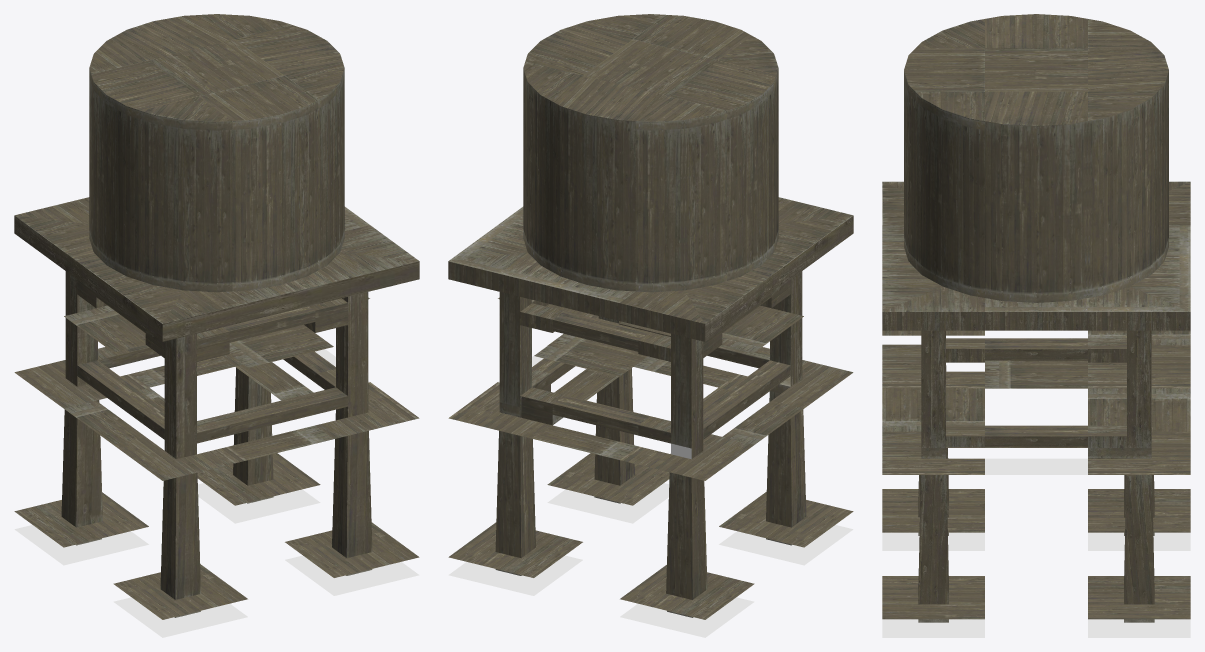
Rendered from watertower.dae.
The picture shows the model from 3 angles, left to right: view 1: azimuth 30°, elevation 25°; view 2: azimuth 150°, elevation 25°; view 3: azimuth 270°, elevation 25°; orthographic projection. The views are drawn at different scales.
Visible parts, largest first — view 1: wall10 (×9), wall23 (×14), wall3 (×3), wall2_25 (×7), floor222 (×4), wall2_13 (×3), wall3_6 (×2); view 2: wall10 (×9), wall23 (×14), wall3 (×3), wall2_25 (×6), floor222 (×4), wall2_13 (×3), wall3_6 (×2); view 3: wall10 (×9), wall23 (×13), wall3 (×4), wall2_25 (×6), wall2_13 (×4), floor222 (×4), wall3_6 (×3).
Boxes of the visible parts, left/top/right/bottom form: wall10 (×9): left=89, top=14, right=344, bottom=292; wall23 (×14): left=14, top=271, right=419, bottom=619; wall3 (×3): left=14, top=197, right=419, bottom=341; wall2_25 (×7): left=64, top=351, right=335, bottom=459; floor222 (×4): left=14, top=483, right=419, bottom=637; wall2_13 (×3): left=64, top=305, right=333, bottom=367; wall3_6 (×2): left=63, top=245, right=333, bottom=320; wall10 (×9): left=523, top=14, right=778, bottom=292; wall23 (×14): left=448, top=271, right=853, bottom=619; wall3 (×3): left=448, top=197, right=853, bottom=341; wall2_25 (×6): left=534, top=356, right=803, bottom=459; floor222 (×4): left=448, top=483, right=853, bottom=637; wall2_13 (×3): left=534, top=305, right=803, bottom=376; wall3_6 (×2): left=534, top=245, right=804, bottom=320; wall10 (×9): left=904, top=14, right=1168, bottom=302; wall23 (×13): left=882, top=330, right=1190, bottom=619; wall3 (×4): left=882, top=181, right=1190, bottom=330; wall2_25 (×6): left=882, top=388, right=1190, bottom=474; wall2_13 (×4): left=882, top=330, right=1190, bottom=388; floor222 (×4): left=882, top=532, right=1190, bottom=637; wall3_6 (×3): left=882, top=225, right=1190, bottom=330.
Size of the model in its own units: 118 by 118 by 213.
3 materials, 2 textured.
